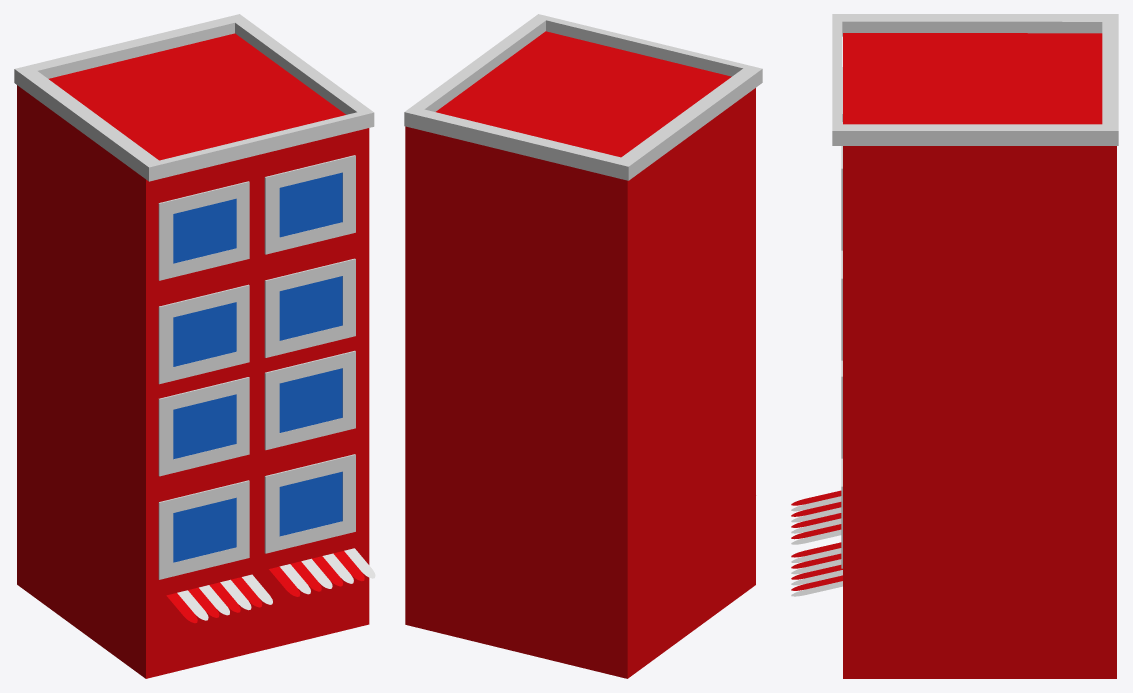
The model's file is House 3.fbx.
3 renders of one model, left to right at view 1: azimuth 30°, elevation 25°; view 2: azimuth 150°, elevation 25°; view 3: azimuth 270°, elevation 25°, orthographic. The views are drawn at different scales.
Parts seen in each view (by area): view 1: House 3, House 3 Details, House 3 Windows, House 3 Curtains; view 2: House 3, House 3 Details; view 3: House 3, House 3 Details, House 3 Curtains.
Part boxes in pixels (left/top/right/bottom): House 3: left=17, top=33, right=369, bottom=678; House 3 Details: left=14, top=14, right=374, bottom=579; House 3 Windows: left=173, top=172, right=342, bottom=562; House 3 Curtains: left=166, top=548, right=375, bottom=623; House 3: left=405, top=31, right=755, bottom=678; House 3 Details: left=404, top=14, right=762, bottom=180; House 3: left=843, top=33, right=1116, bottom=678; House 3 Details: left=832, top=14, right=1118, bottom=568; House 3 Curtains: left=791, top=490, right=842, bottom=596.
Bounding box in the file's own units: 202 × 441 × 239.
